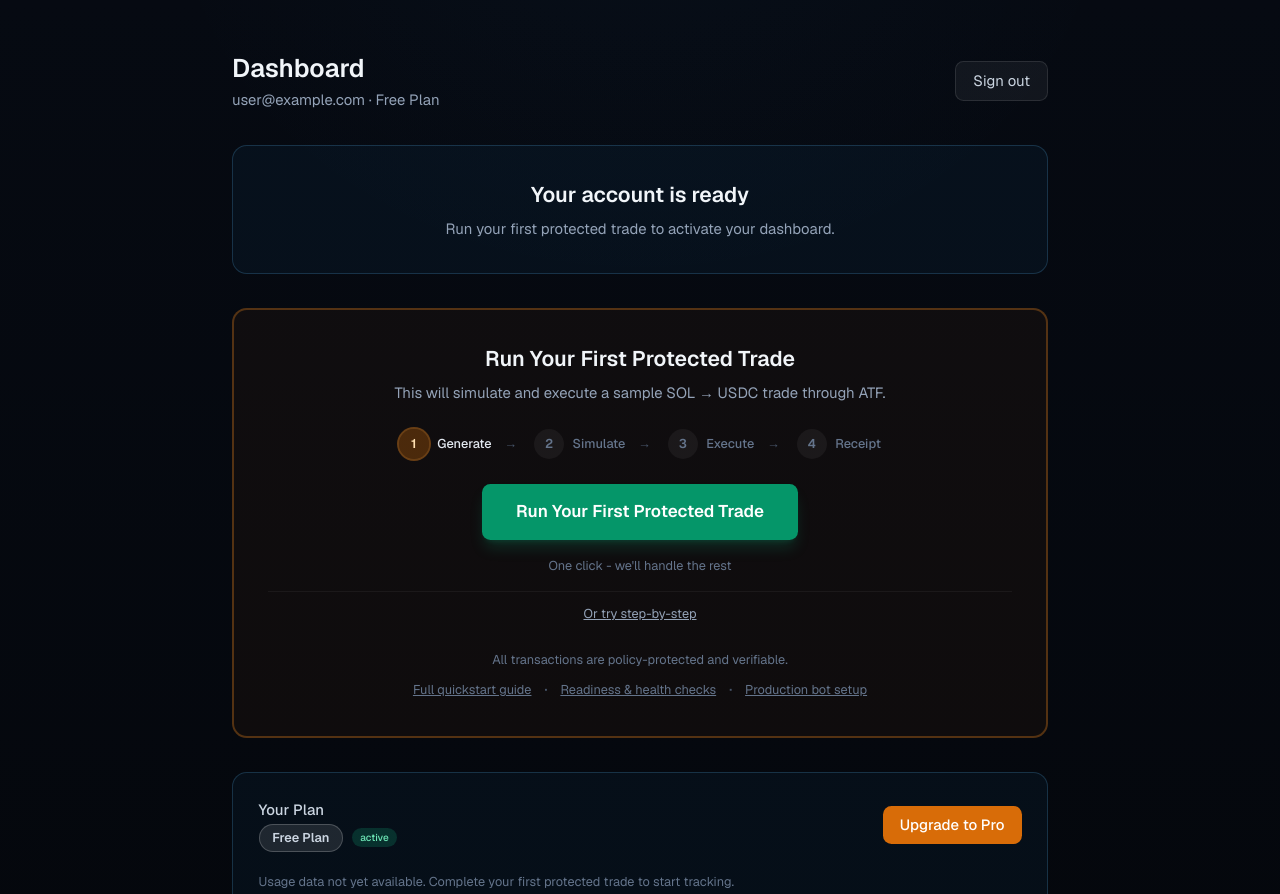
Test: dashboard success surface includes proof links › renders ProofLinksCard in success state when receipt id is available
Click the button with test id "quick-trade-btn" at (640, 512), box [482, 484, 798, 540]
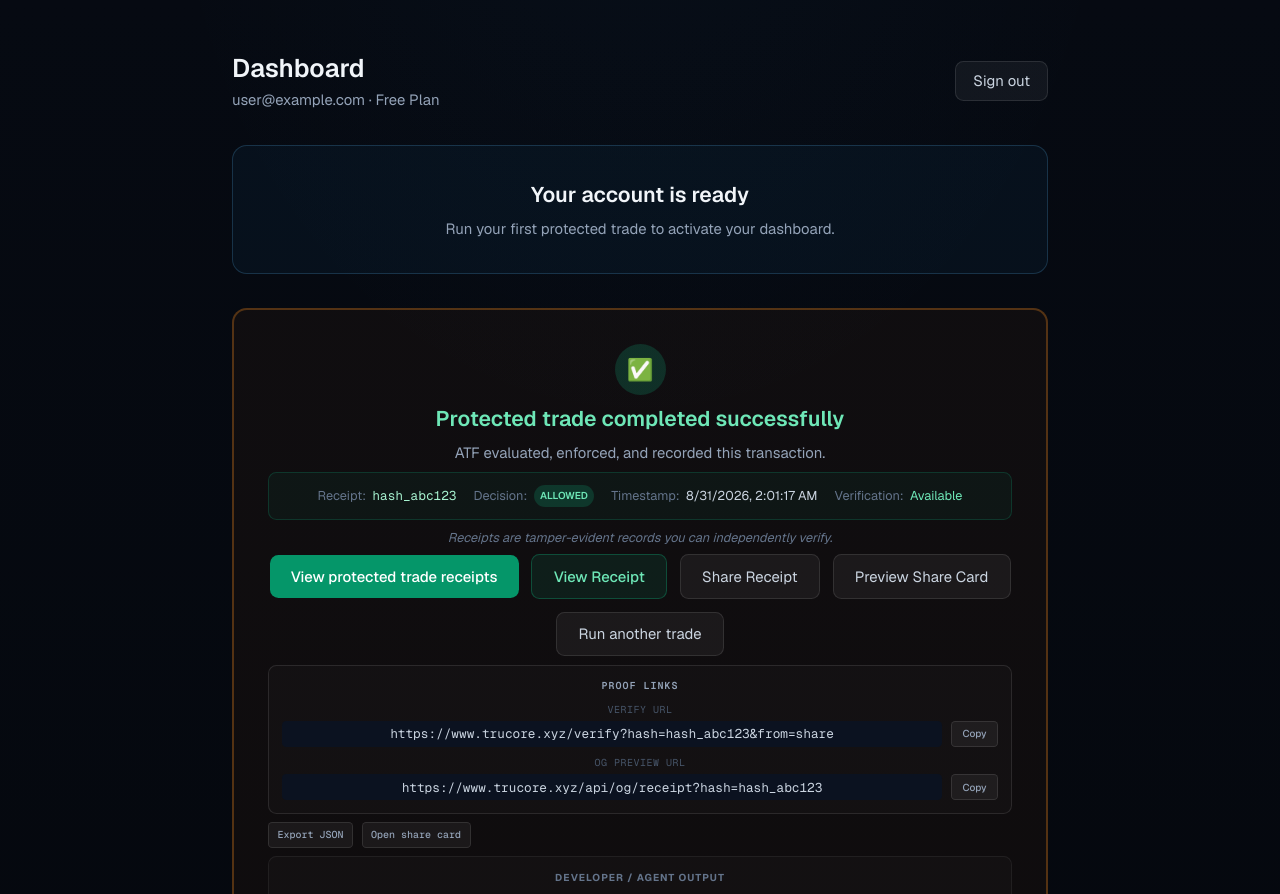
Result: the element with test id "trust-actions" is shown at [268, 554, 1012, 656]
Result: the element with test id "proof-links-card" is shown at [268, 664, 1012, 814]
